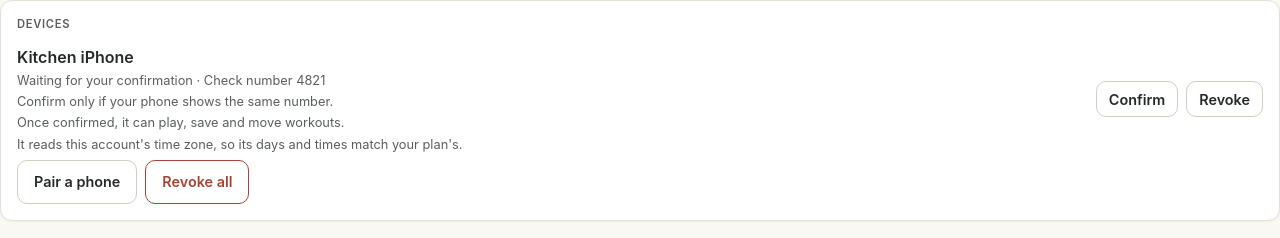
Settings → Devices › a confirm the server answered by turning the phone away says so, and to pair it again
What coordinates should you click on to do the following:
click the button "Confirm"
I would click on:
 (1137, 99)
Its box is [1096,81,1178,117].
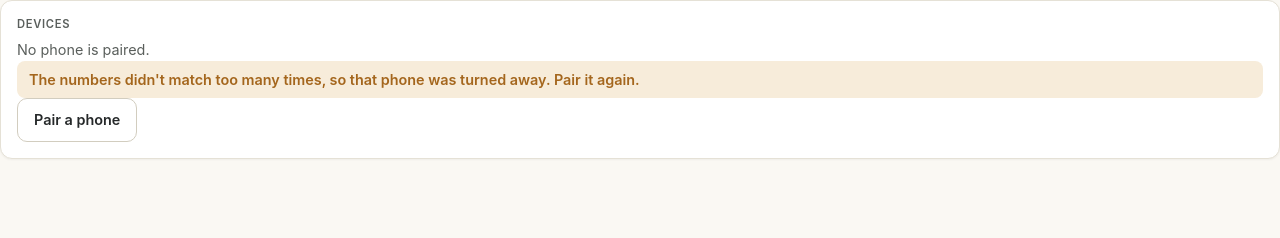
Result: the text "The numbers didn't match too many times, so that phone was turned away. Pair it again." is shown at [29,71,640,88]
